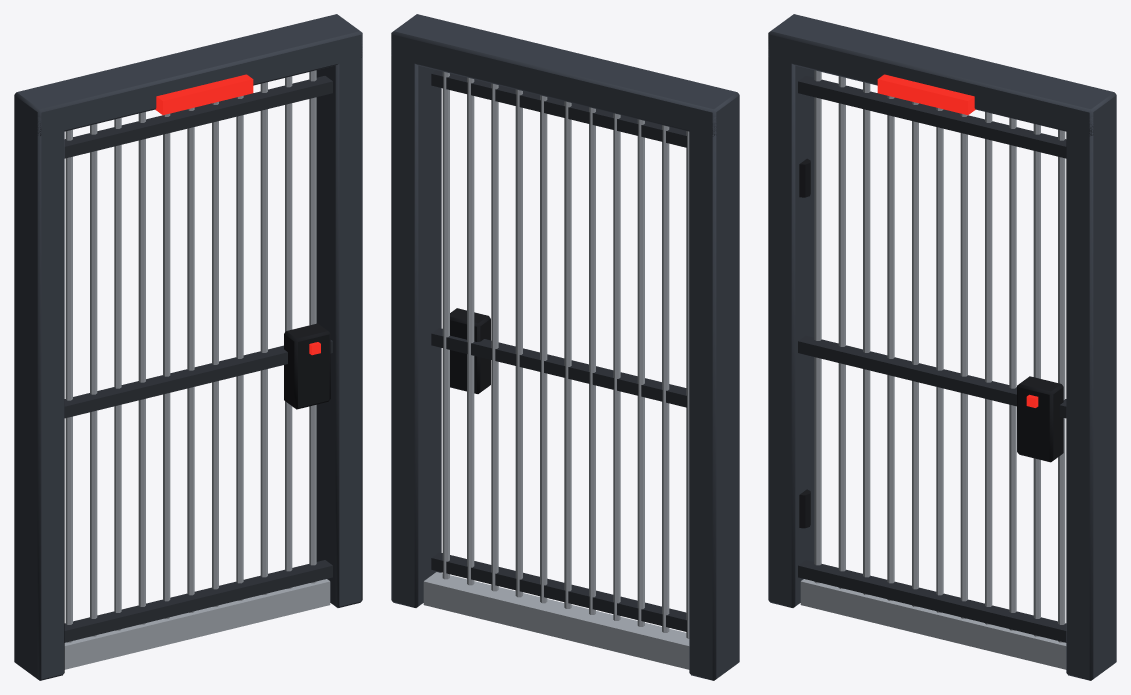
Rendered from cell_door_bars.glb.
3 renders of one model, left to right at view 1: azimuth 30°, elevation 25°; view 2: azimuth 150°, elevation 25°; view 3: azimuth 330°, elevation 25°, orthographic.
Parts seen in each view (by area): view 1: cell_door_bars; view 2: cell_door_bars; view 3: cell_door_bars.
Part boxes in pixels (<box>): cell_door_bars: <box>14,14,362,680</box>; cell_door_bars: <box>391,14,739,680</box>; cell_door_bars: <box>768,14,1116,680</box>.
Bounding box in the file's own units: 1.44 × 2.42 × 0.25.
